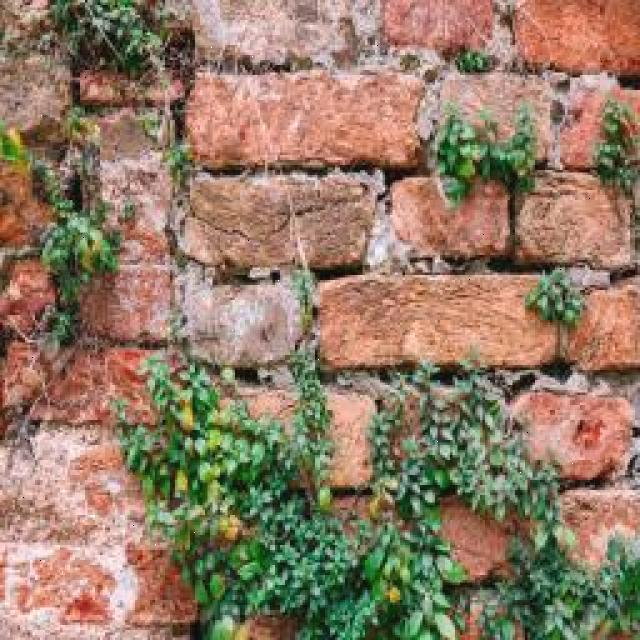corrosion: (1, 0, 638, 638)
crack: (0, 416, 194, 640), (156, 0, 217, 451)
dampness: (359, 0, 640, 375), (178, 4, 435, 311), (70, 107, 186, 345), (5, 323, 160, 433)
vegetation: (116, 262, 362, 633), (2, 112, 123, 346), (112, 357, 234, 526), (47, 0, 183, 110), (176, 272, 314, 371), (184, 0, 361, 69), (432, 99, 542, 208), (83, 106, 180, 191), (2, 48, 74, 148), (49, 105, 108, 208), (2, 161, 59, 254), (592, 95, 640, 198), (1, 335, 54, 423), (1, 258, 59, 337), (372, 43, 456, 83), (1, 121, 43, 197), (2, 0, 65, 50), (36, 151, 78, 214), (454, 48, 494, 74)
